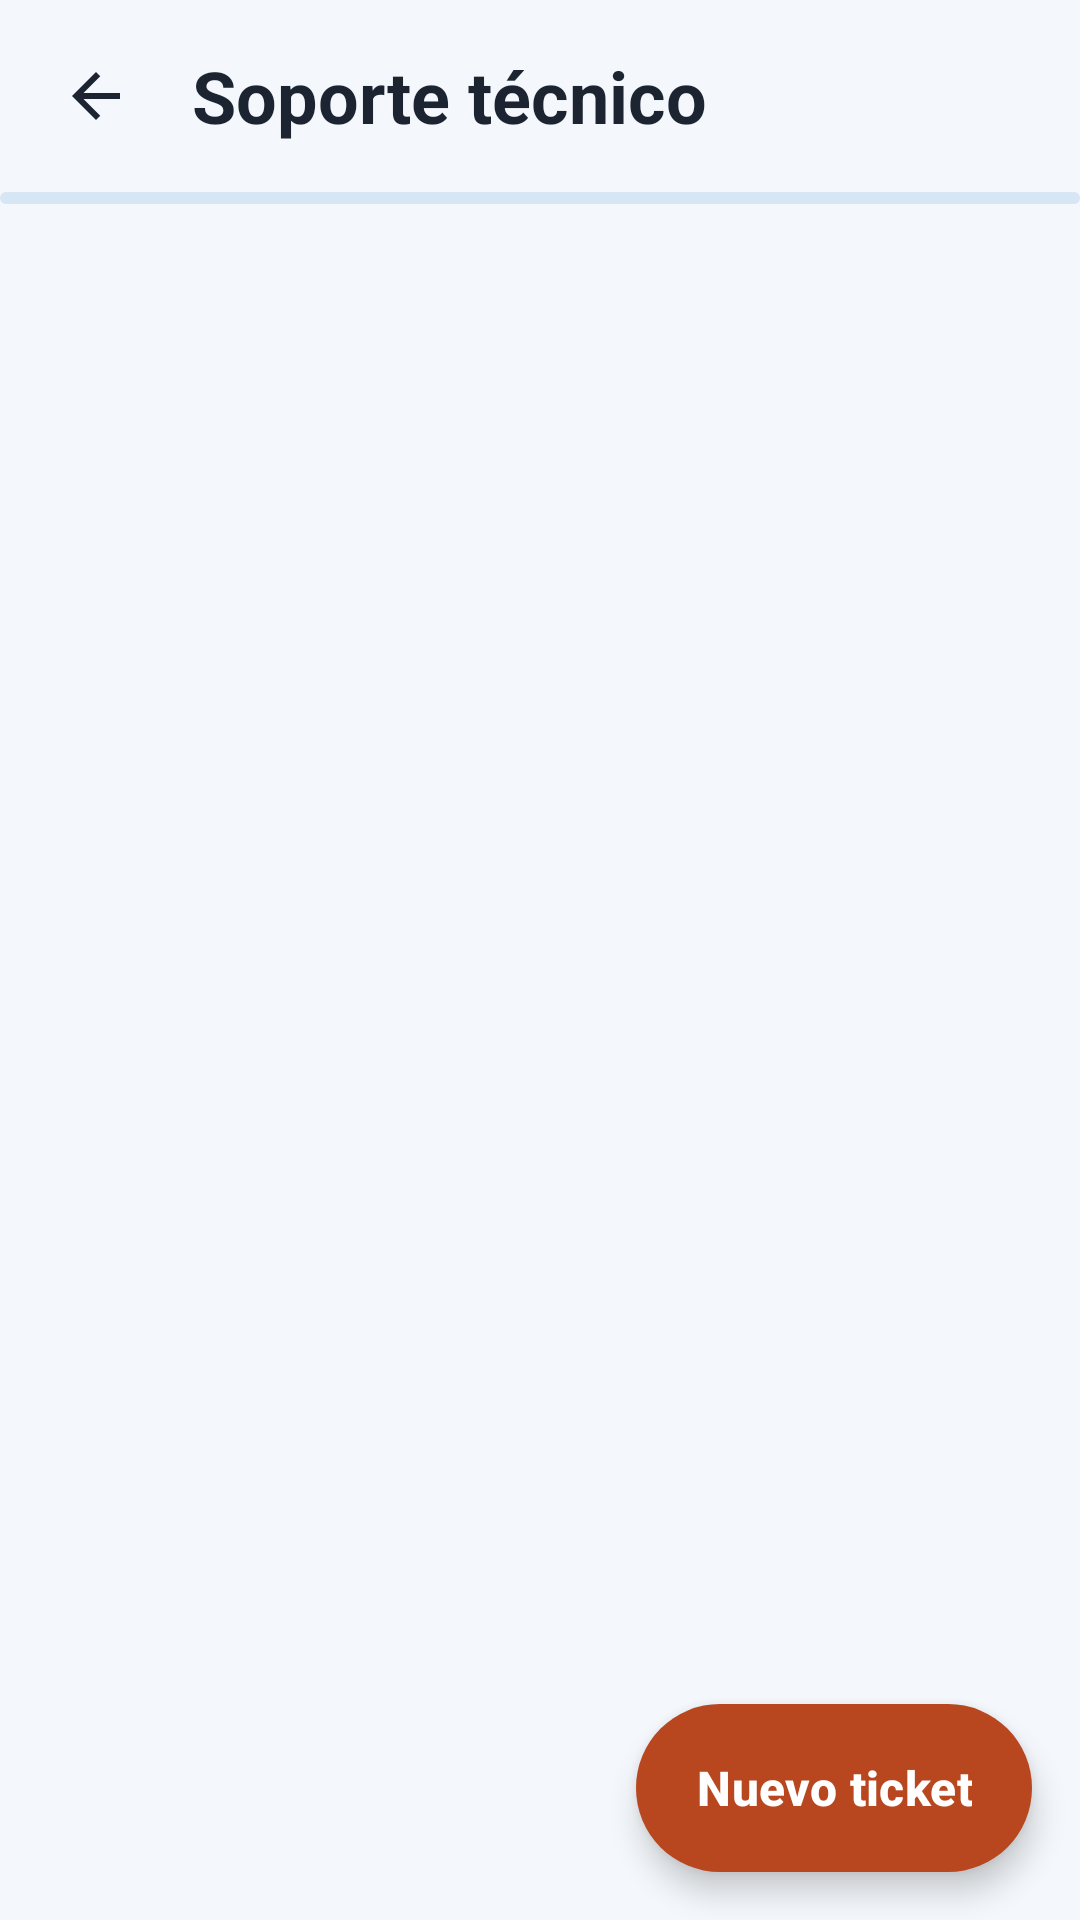

Locate icon controls on the screen. Image size 1080×1920, boxes as (x1, y1, x2, y2).
Volver: (72, 72, 120, 120)
